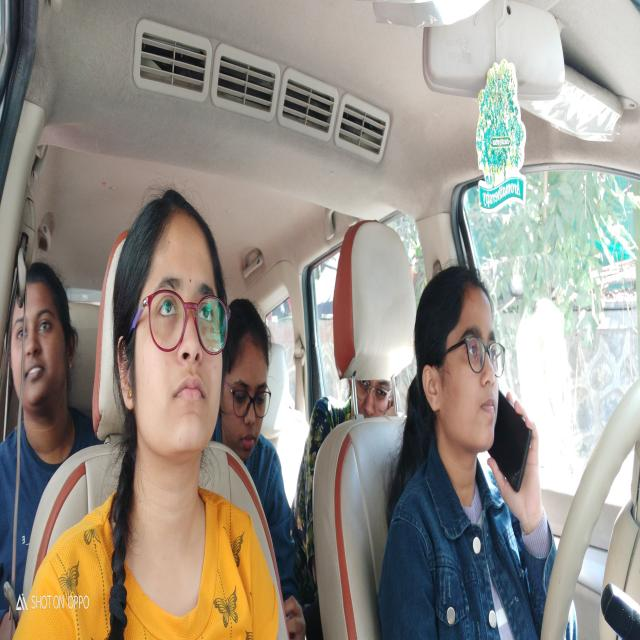mobile: (497, 390, 530, 497)
person: (114, 183, 229, 450), (413, 274, 500, 451), (7, 268, 81, 416), (226, 299, 270, 449), (336, 379, 398, 416)
